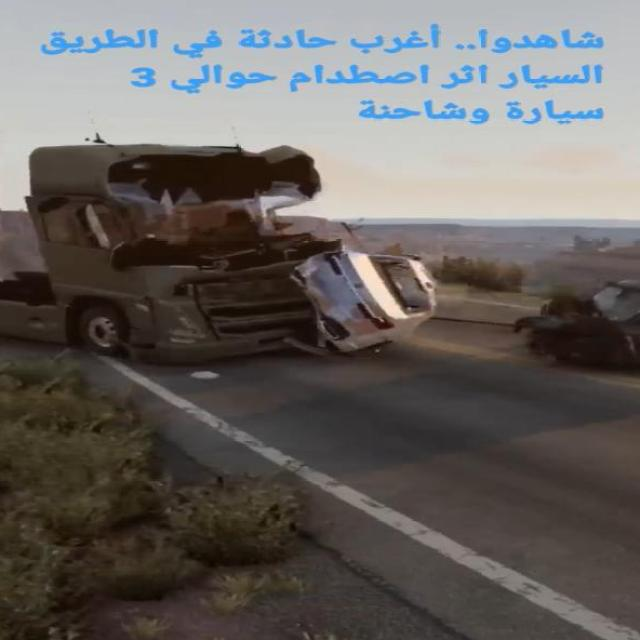accident: (0, 135, 432, 367)
